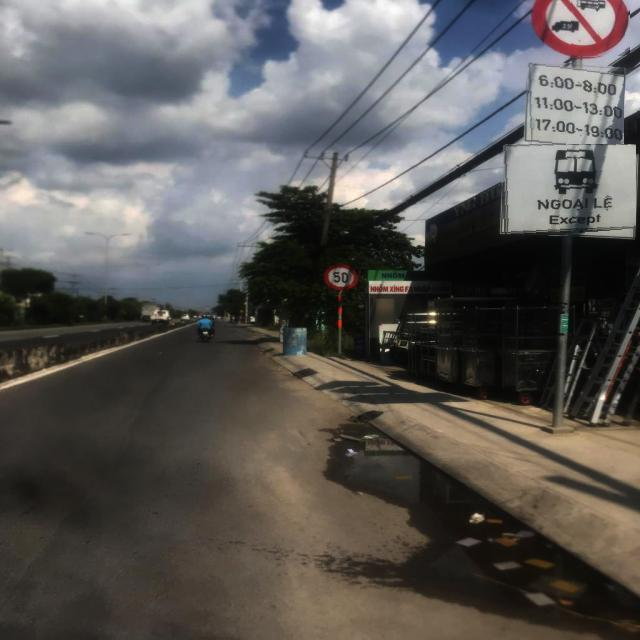107-cam-oto-khach-va-oto-tai: (530, 0, 630, 59)
127-toc-do-toi-da-50: (323, 264, 360, 290)
